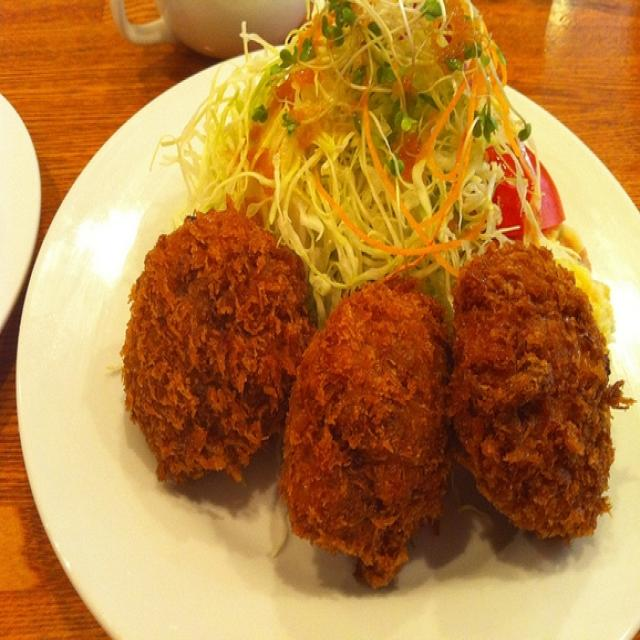炸货点心: (63, 124, 624, 615)
